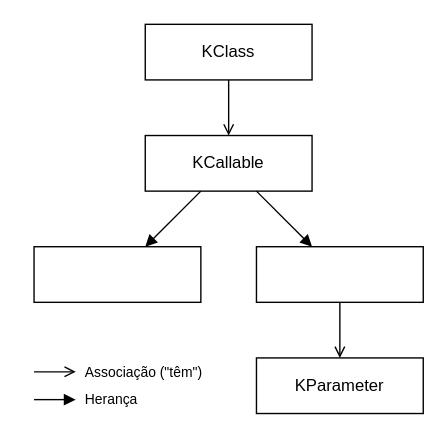
Some shapes in this 448 by 438 pixel diagram are drawn without their labels. Here are the shapes that lost their labels. From the top down, the centre of each, then its label:
At (117,273): "KProperty".
At (339,273): "KFunction".
